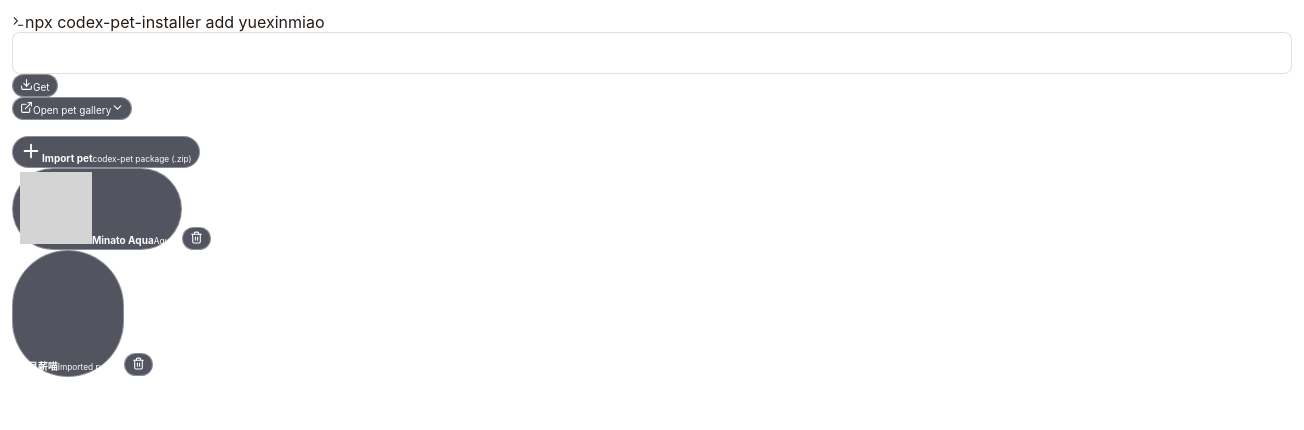
Test: PetThemeGrid removal › arms on the first click with visible and announced confirmation
Click the 2nd button named "Remove": [138, 364] box [124,353,153,376]
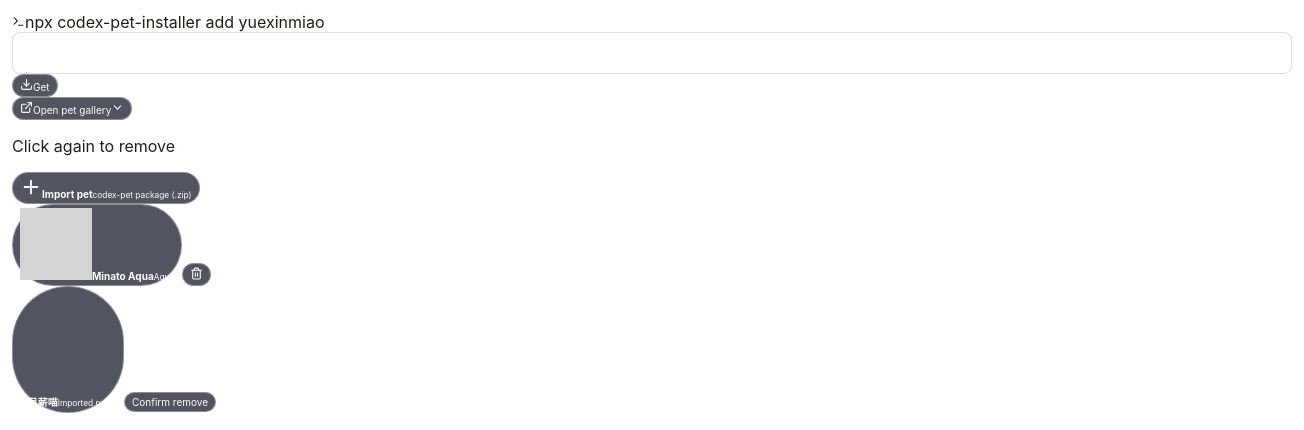
Expected: the text "Confirm remove" is shown, [132,396,208,408]
Expected: the message reads "Click again to remove", [12,136,175,156]
